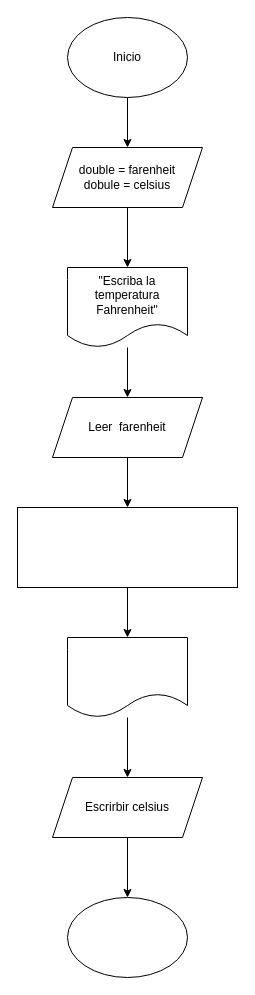
The diagram is 255 pixels wide and 995 high, and some of its shapes have lost their labels. The centre of each missing label's shape, as x and y in pixels:
"La temperatura en celsius es: ": [127,677]
celsius = (farenheit - 32) * 5.0 / 9.0: [127,547]
Fin: [127,937]
